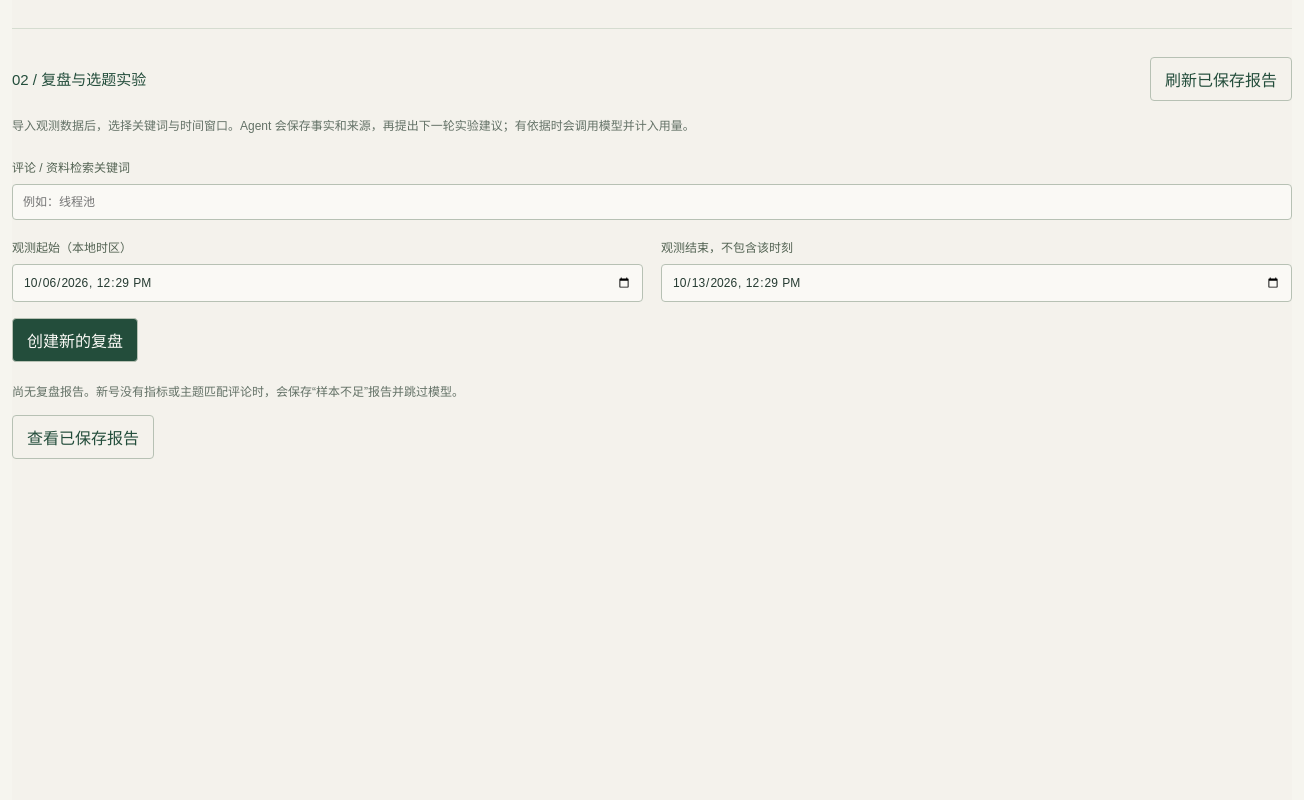
Test: opens a scheduled report by its owned id without generating a new report
Click the button "查看已保存报告".
click(83, 437)  # box [12,415,154,459]
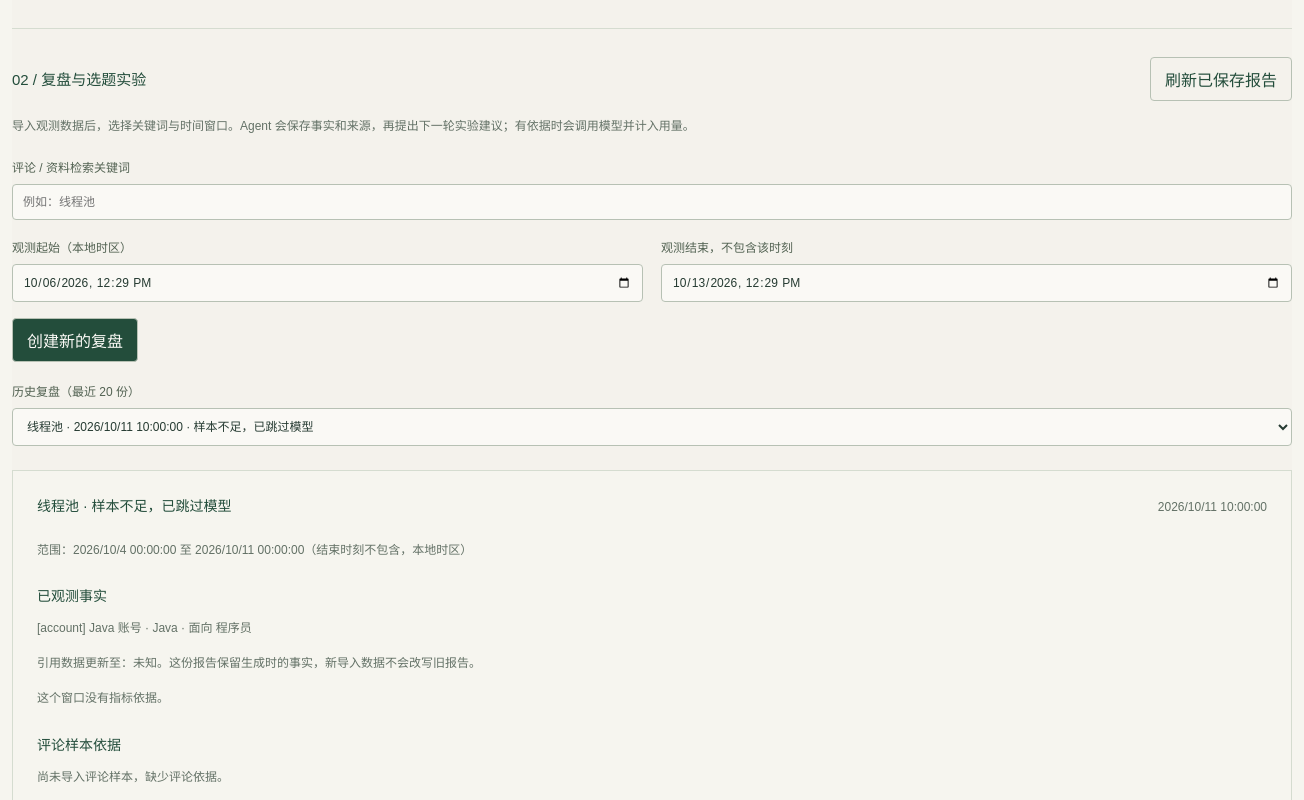
Check: the text "样本不足，已跳过模型" is shown, box [37,498,232,514]
